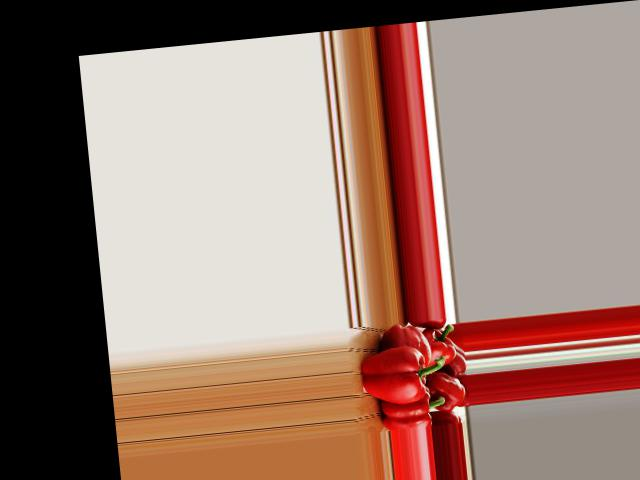bell_pepper: (419, 321, 458, 367)
